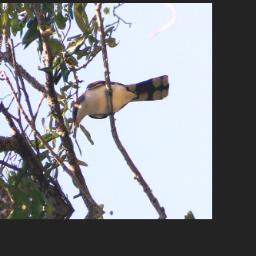Cuckoo: (71, 65, 172, 144)
